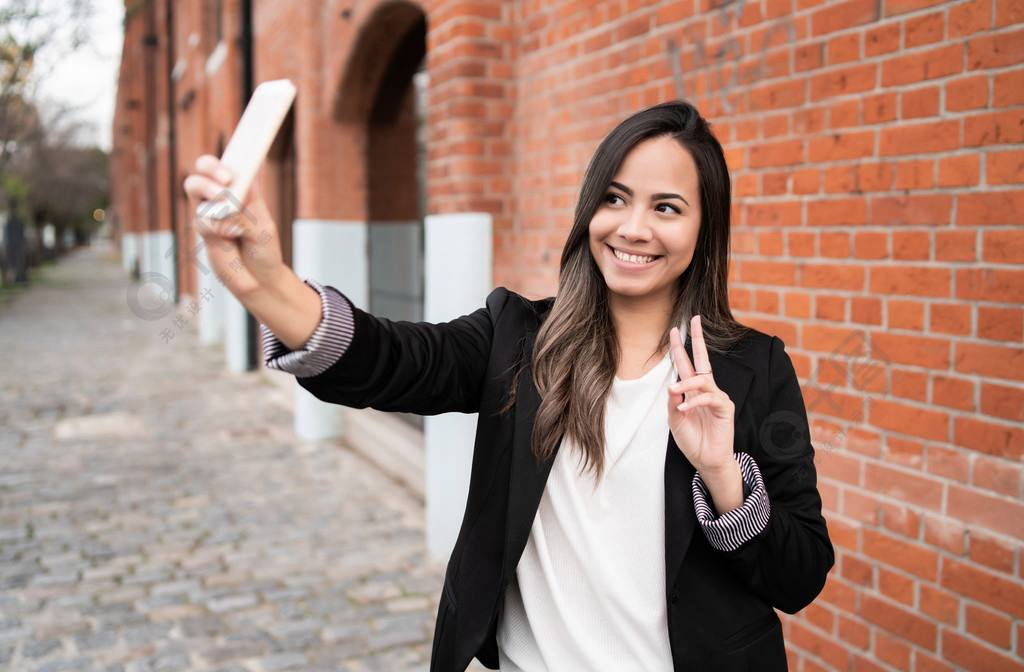no-phone: (663, 314, 737, 470)
taking photos: (179, 75, 310, 319)
